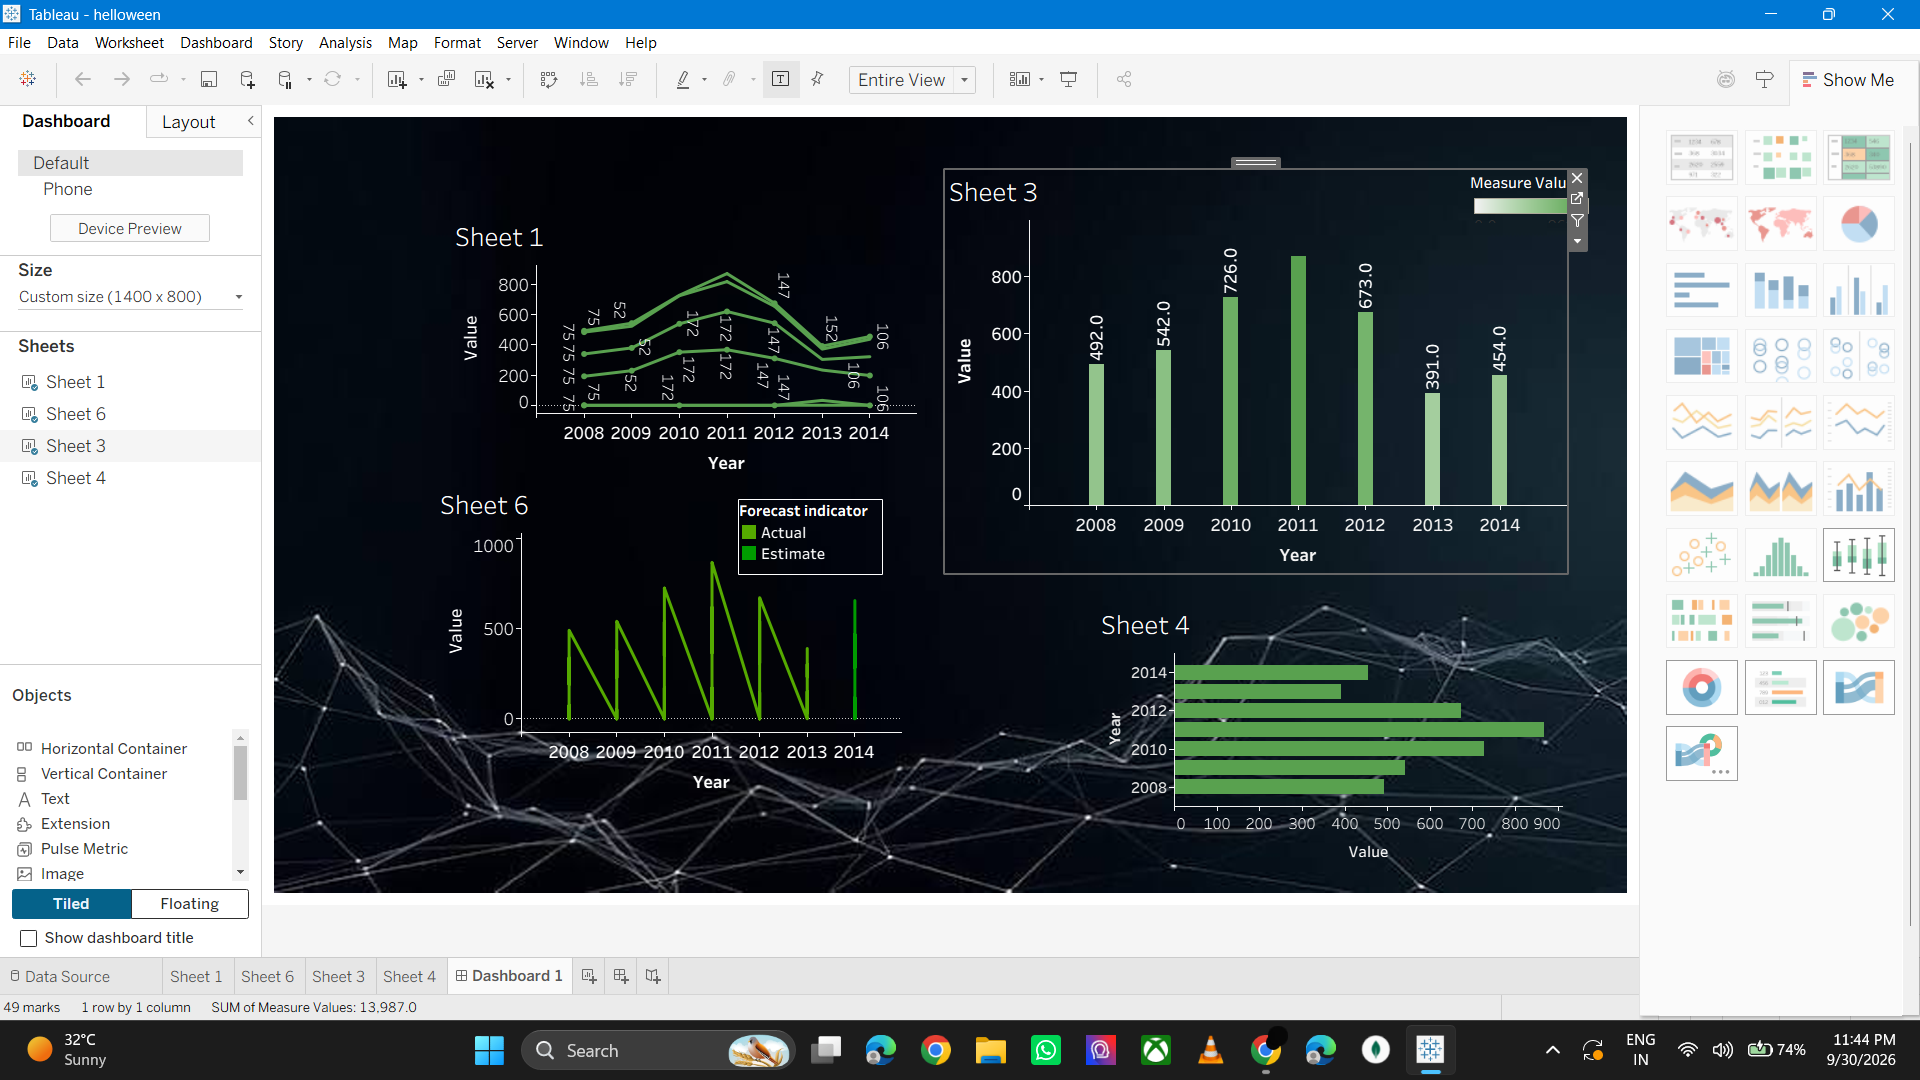

This screenshot's page, from the dashboard's own definition file:
{"tool":"tableau","page":{"name":"Dashboard 1","canvas":[1400,800],"ordinal":0},"visuals":[{"type":"image","param":"C:/Users/ddhar/Downloads/images.jpg","box":[8,8,1384,784]},{"type":"worksheet","title":"Sheet 3","mark":"Bar","cols":["Year"],"box":[683,65,622,403]},{"type":"legend","title":"Sheet 3","param":"[federated.08xb8131ip2qhh12p2bqp16c8r65].[Multiple Values]","box":[1208,67,123,51]},{"type":"worksheet","title":"Sheet 1","mark":"Line","cols":["Year"],"box":[189,110,466,266]},{"type":"worksheet","title":"Sheet 6","mark":"Automatic","cols":["Year"],"box":[174,378,466,317]},{"type":"legend","title":"Sheet 6","param":"[federated.08xb8131ip2qhh12p2bqp16c8r65].[none:Forecast Indicator:nk]","box":[476,394,145,76]},{"type":"worksheet","title":"Sheet 4","mark":"Bar","rows":["Year"],"box":[835,498,466,266]}]}

Visuals, with their boxes on the page's 1400x800 design canvas (x1, y1, x2, y2). These are canvas units, not pixel positions in the 1920x1080 screenshot, which may show the page scaled, cropped or inside an application window:
image: bbox=[8, 8, 1392, 792]
"Sheet 3" worksheet (Bar marks): bbox=[683, 65, 1305, 468]
"Sheet 3" legend: bbox=[1208, 67, 1331, 118]
"Sheet 1" worksheet (Line marks): bbox=[189, 110, 655, 376]
"Sheet 6" worksheet: bbox=[174, 378, 640, 695]
"Sheet 6" legend: bbox=[476, 394, 621, 470]
"Sheet 4" worksheet (Bar marks): bbox=[835, 498, 1301, 764]
